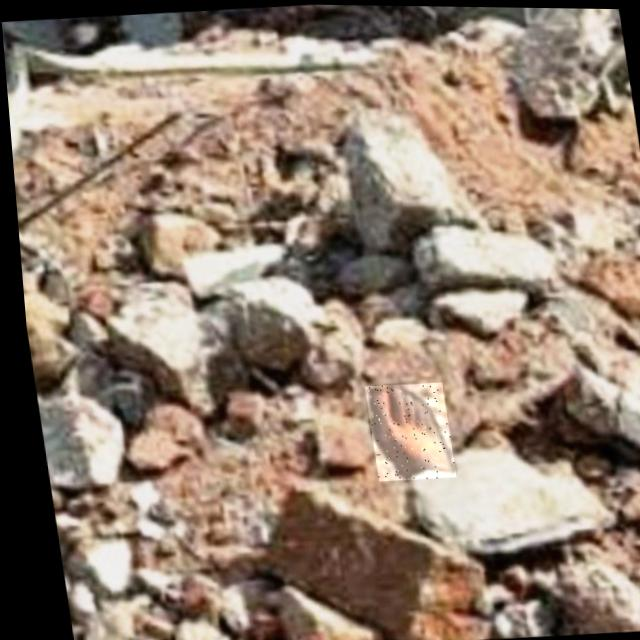Person in Rubble: (358, 380, 448, 481)
